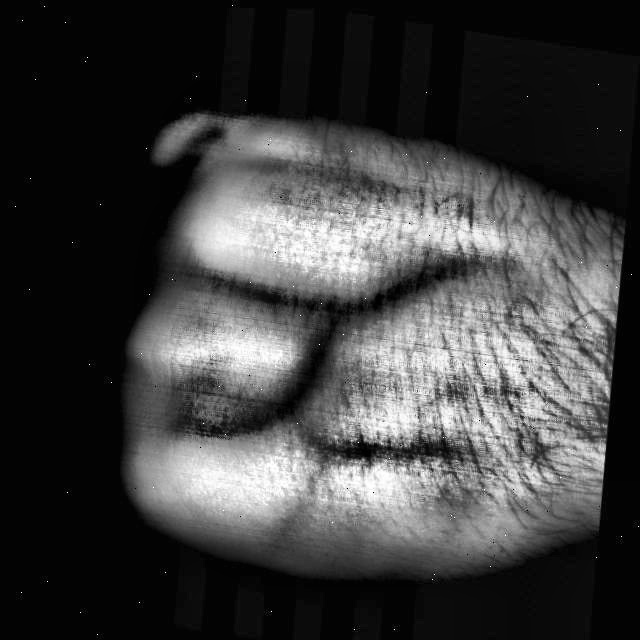Vein: (349, 234, 532, 336)
